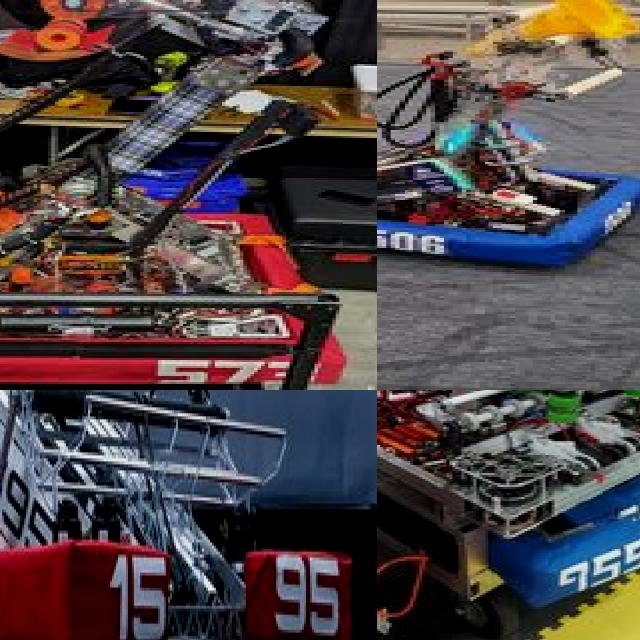FRC-Robots: (0, 0, 377, 390), (0, 390, 377, 640), (377, 0, 640, 275), (377, 390, 640, 541)
